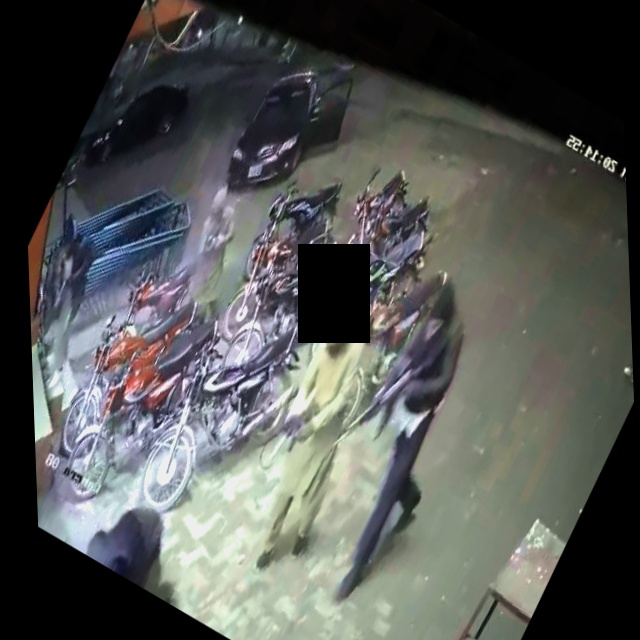gun: (325, 320, 443, 478)
